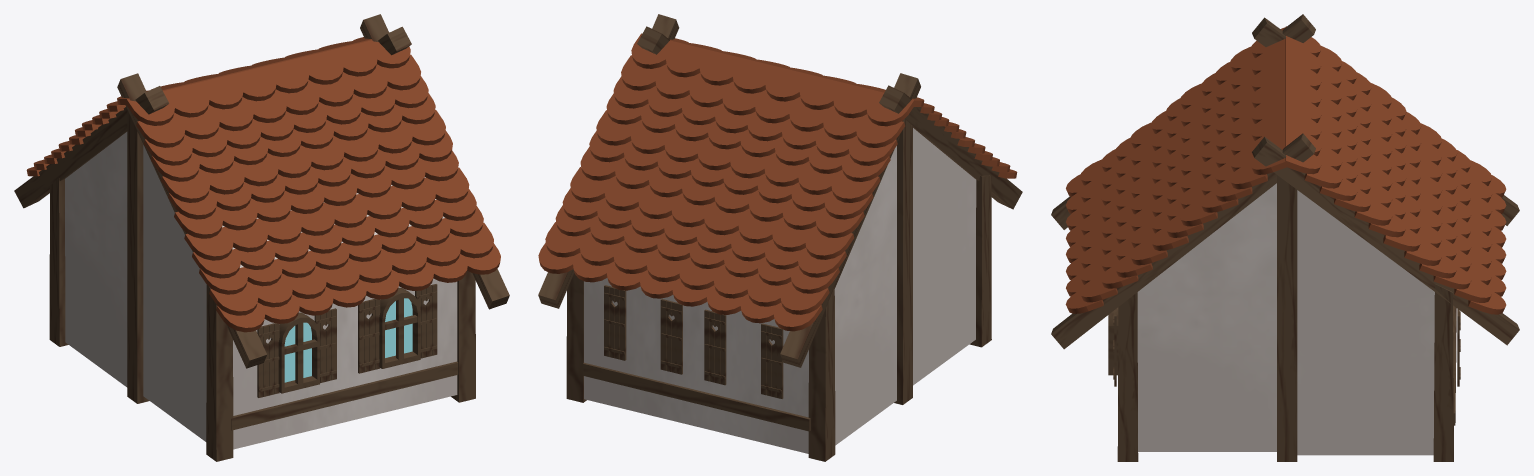
File: House3.fbx
3 renders of one model, left to right at view 1: azimuth 30°, elevation 25°; view 2: azimuth 150°, elevation 25°; view 3: azimuth 270°, elevation 25°, orthographic.
Visible parts, largest first — view 1: polySurface886; view 2: polySurface886; view 3: polySurface886.
Boxes of the visible parts, x1,y1,x2,y2 form: polySurface886: [14, 14, 509, 461]; polySurface886: [538, 14, 1022, 461]; polySurface886: [1051, 14, 1519, 461].
Bounding box in the file's own units: 1.28 × 1.41 × 1.86.
